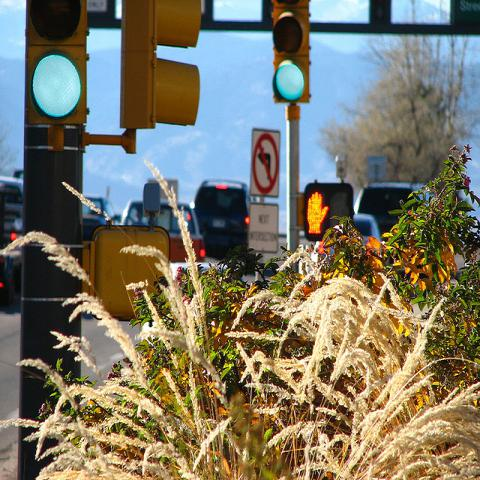car: (118, 198, 206, 262), (356, 184, 424, 234), (82, 193, 115, 242), (354, 212, 386, 242)
truck: (196, 181, 250, 266), (0, 176, 25, 314), (354, 183, 413, 233)
